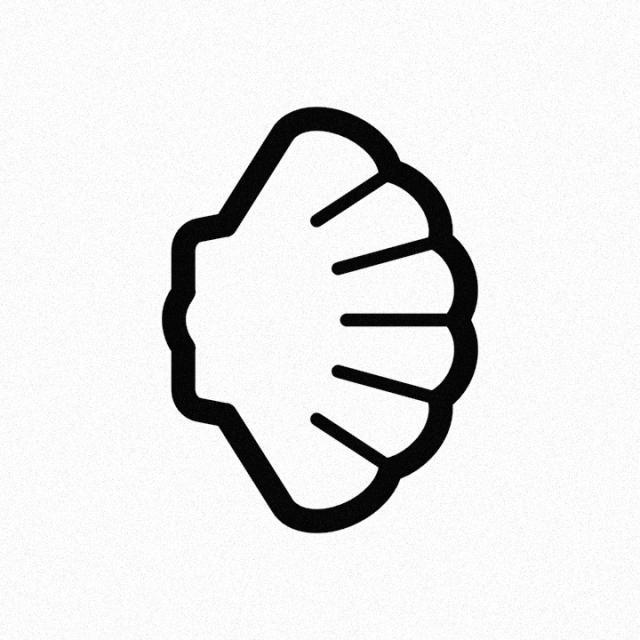shell: (151, 98, 485, 554)
